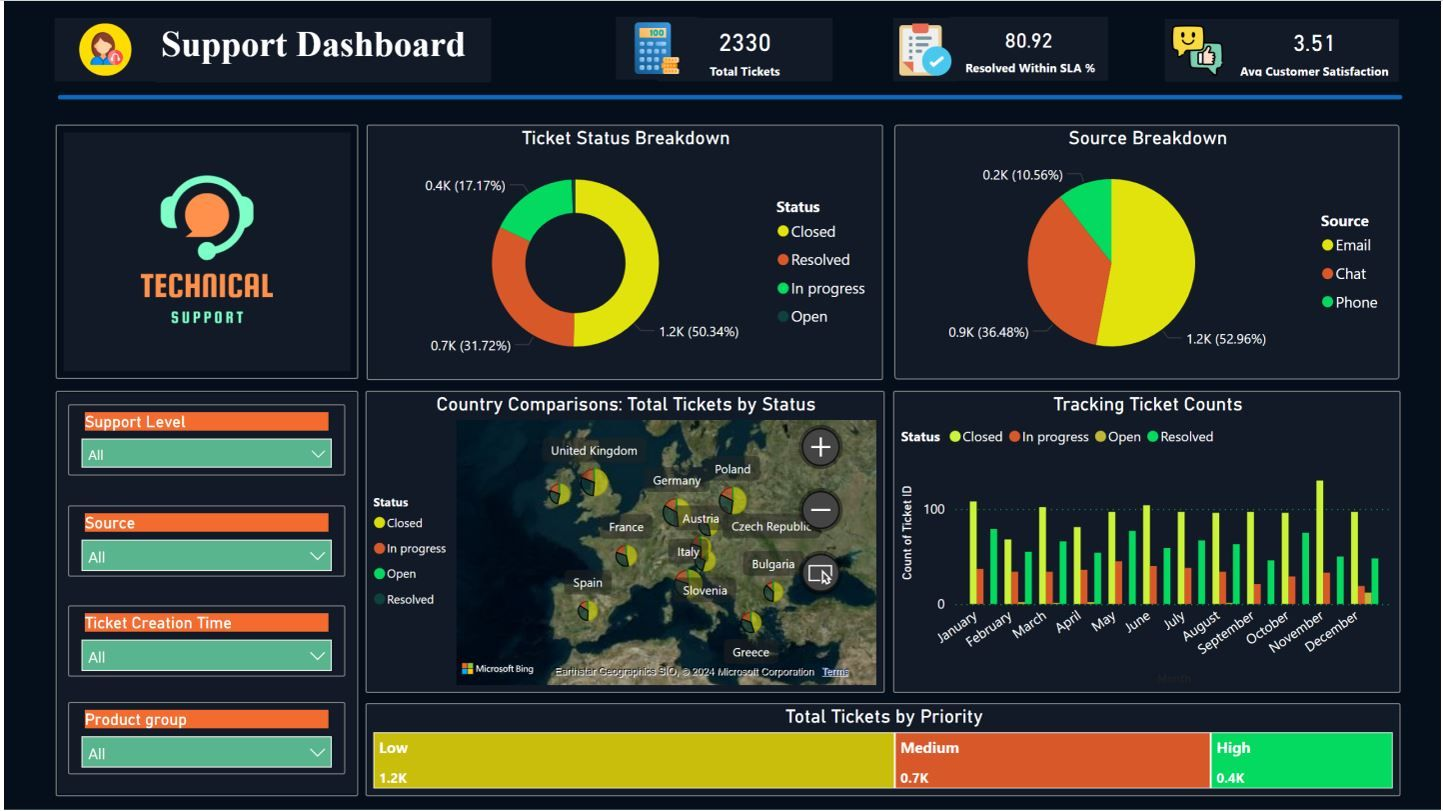

Layout of this report page (visuals, bound fields, positions):
{"tool":"powerbi","page":{"name":"Overview and Ticket Statistics","canvas":[1280,720],"ordinal":0},"visuals":[{"type":"shape","box":[45.6,346.8,269.6,360.8],"z":0},{"type":"textbox","box":[135,15,298.8,57.5],"z":1000},{"type":"card","fields":{"Values":["Count(Technical Support Dataset.Ticket ID)"]},"box":[582.3,15,155.8,56.6],"z":2000},{"type":"card","fields":{"Values":["Technical Support Dataset.Average Customer Satisfaction"]},"box":[1092.2,15.6,150.6,55.8],"z":3000},{"type":"card","fields":{"Values":["Technical Support Dataset.Tickets Resolved Within SLA"]},"box":[841.6,14.3,141.6,57.1],"z":4000},{"type":"image","box":[792,15,57.5,56.6],"z":5000},{"type":"image","box":[1033.8,15.6,58.4,55.8],"z":6000},{"type":"image","box":[545.5,14.3,72.7,55.8],"z":7000},{"type":"image","box":[45,15,90,56.2],"z":8000},{"type":"donutChart","title":"Ticket Status Breakdown","fields":{"Category":["Technical Support Dataset.Status"],"Y":["Technical Support Dataset.Total Tickets"]},"box":[322.5,110,460,227.5],"z":9000},{"type":"pieChart","title":"Source Breakdown","fields":{"Category":["Technical Support Dataset.Source"],"Y":["Technical Support Dataset.Total Tickets"]},"box":[792.5,110,450,227],"z":10000},{"type":"lineClusteredColumnComboChart","title":"Tracking Ticket Counts","fields":{"Category":["Technical Support Dataset.Created time.Variation.Date Hierarchy.Month"],"Y":["CountNonNull(Technical Support Dataset.Ticket ID)"],"Series":["Technical Support Dataset.Status"]},"box":[792.2,346.8,451.9,268.8],"z":11000},{"type":"map","title":"Country Comparisons: Total Tickets by Status","fields":{"Category":["Technical Support Dataset.Country"],"Series":["Technical Support Dataset.Status"],"Size":["Technical Support Dataset.Total Tickets"]},"box":[322.1,346.8,462.3,268.8],"z":12000},{"type":"treemap","fields":{"Group":["Technical Support Dataset.Priority"],"Values":["Technical Support Dataset.Total Tickets"]},"box":[322.1,624.7,922.1,83.1],"z":13000},{"type":"slicer","fields":{"Values":["Technical Support Dataset.Source"]},"box":[57,449.4,246.8,63.3],"z":14000},{"type":"image","box":[45.6,110.1,269.6,226.6],"z":15000},{"type":"slicer","fields":{"Values":["Technical Support Dataset.Product group"]},"box":[57,624.1,246.8,64.6],"z":16000},{"type":"slicer","fields":{"Values":["Technical Support Dataset.Created time"]},"box":[57,538,246.8,63.3],"z":17000},{"type":"slicer","fields":{"Values":["Technical Support Dataset.Support Level"]},"box":[57,359.5,246.8,63.3],"z":18000},{"type":"shape","box":[47.5,15,1197.5,141.2],"z":19000}]}

Visuals, with their boxes in screenshot pixels (x1, y1, x2, y2), scaled from the page's 1280x720 canvas onto the 1443x811 screenshot:
shape: 51,391,355,797
textbox: 152,17,489,82
card - Count(Technical Support Dataset.Ticket ID): 656,17,832,81
card - Technical Support Dataset.Average Customer Satisfaction: 1231,18,1401,80
card - Technical Support Dataset.Tickets Resolved Within SLA: 949,16,1108,80
image: 893,17,958,81
image: 1165,18,1231,80
image: 615,16,697,79
image: 51,17,152,80
"Ticket Status Breakdown" donutChart: 364,124,882,380
"Source Breakdown" pieChart: 893,124,1401,380
"Tracking Ticket Counts" lineClusteredColumnComboChart: 893,391,1403,693
"Country Comparisons: Total Tickets by Status" map: 363,391,884,693
treemap - Technical Support Dataset.Priority x Technical Support Dataset.Total Tickets: 363,704,1403,797
slicer - Technical Support Dataset.Source: 64,506,342,577
image: 51,124,355,379
slicer - Technical Support Dataset.Product group: 64,703,342,776
slicer - Technical Support Dataset.Created time: 64,606,342,677
slicer - Technical Support Dataset.Support Level: 64,405,342,476
shape: 54,17,1404,176
